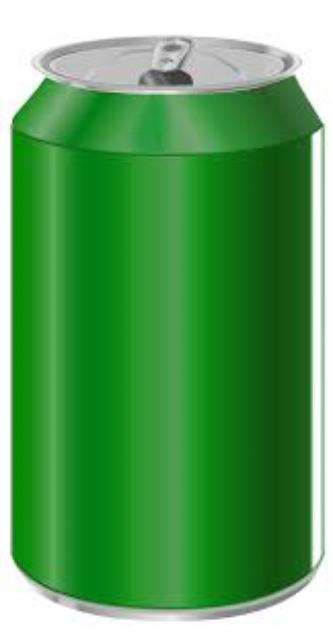metal: (10, 35, 317, 611)
